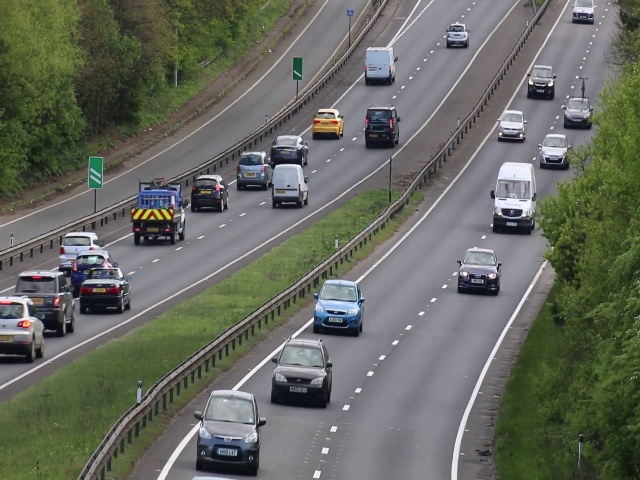car: (196, 390, 260, 473), (273, 337, 333, 408), (133, 180, 186, 245), (493, 163, 537, 236), (313, 277, 365, 337), (1, 296, 43, 363), (456, 246, 501, 297), (29, 273, 73, 320), (83, 268, 132, 310), (269, 162, 310, 208), (364, 105, 400, 149), (191, 174, 230, 213), (364, 44, 398, 88), (236, 150, 272, 190), (269, 135, 310, 165), (539, 131, 569, 170), (310, 107, 345, 140), (527, 62, 554, 103), (498, 107, 526, 145), (563, 97, 593, 130), (60, 233, 103, 255), (443, 22, 470, 49), (74, 257, 116, 272), (572, 1, 595, 26)
